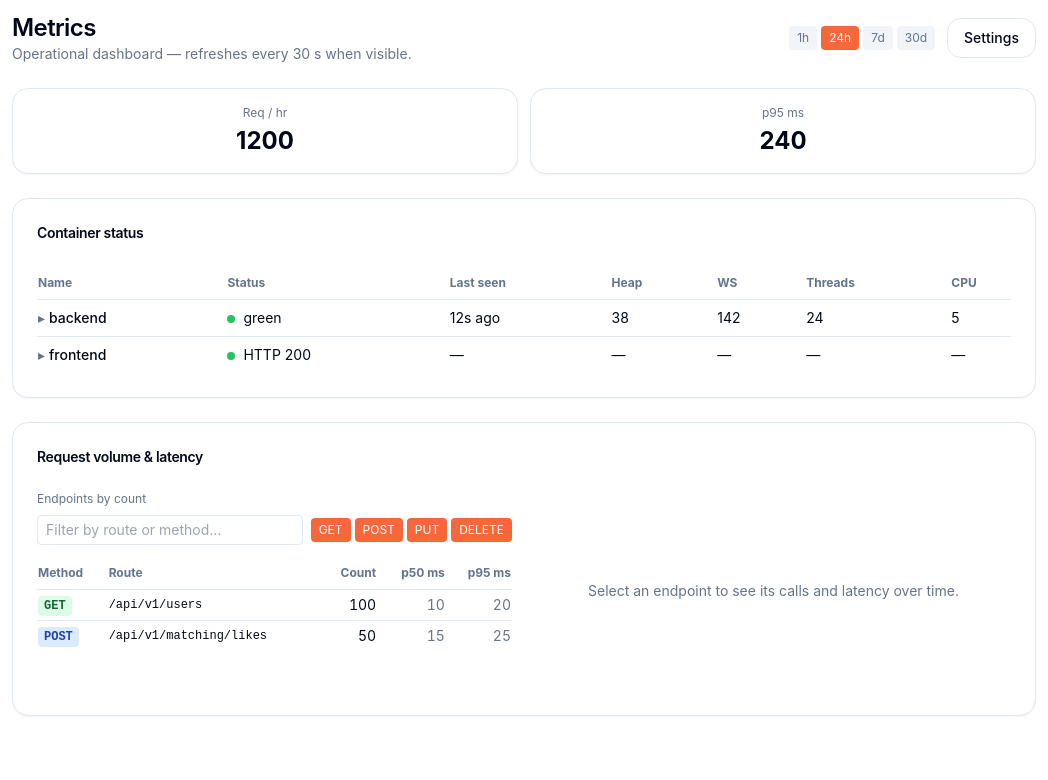
it: AdminMetricsPage › drills into an endpoint when a row is clicked
Click the text "/api/v1/users" at (155, 605), box [108,590,326,620]
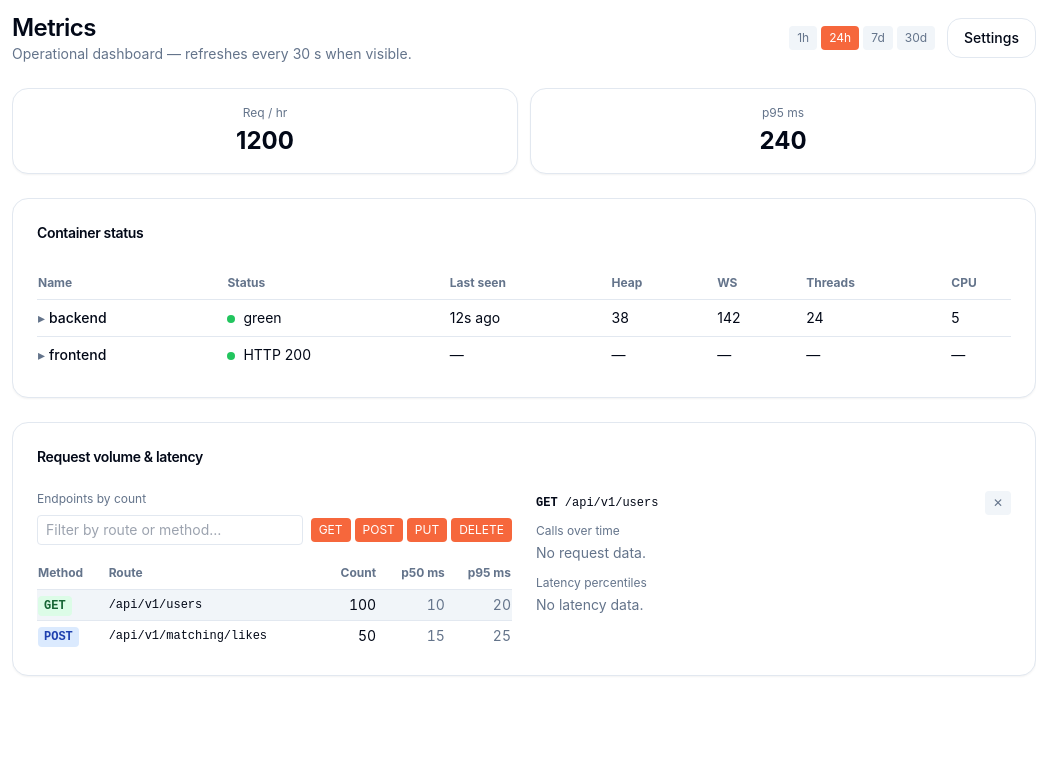
expect the text "Calls over time" is shown: met, box [536,523,620,538]
